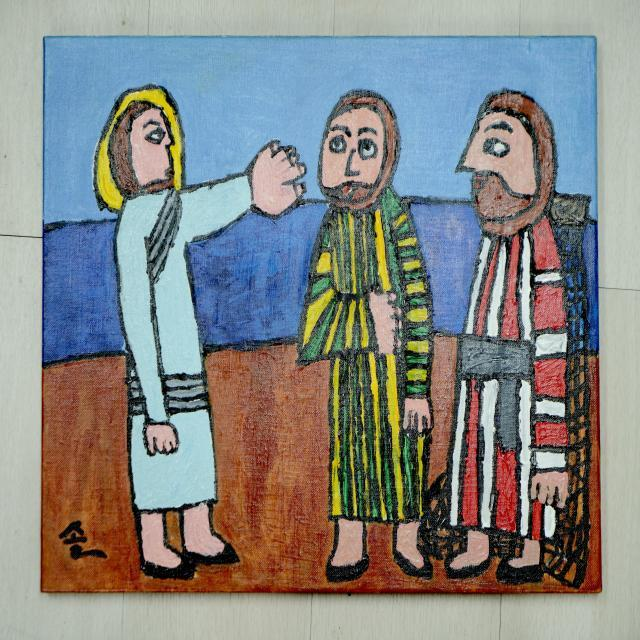painting: (42, 37, 601, 593)
